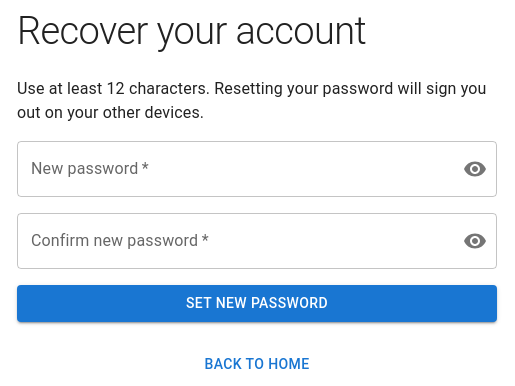
it: account recovery states › handles a link consumed by another tab while the password form is open
Type "new secure password" into the password field labelled "New password *" at [232, 169], box [17, 141, 447, 197]
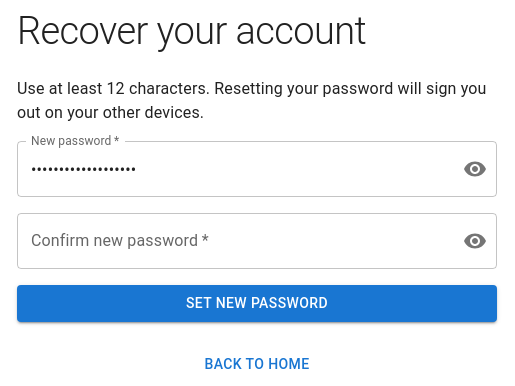
Type "new secure password" into the password field labelled "Confirm new password *" at [232, 241], box [17, 213, 447, 269]
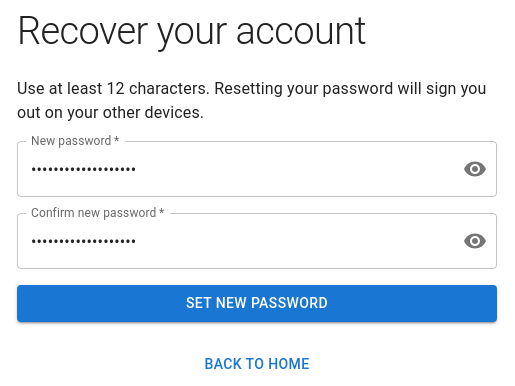
Submit the form named "Set new password", box [17, 77, 497, 322]
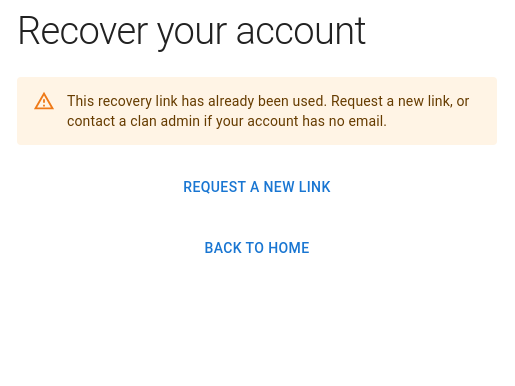
Expected: the text "This recovery link has already been used" is shown, [67, 93, 327, 109]
